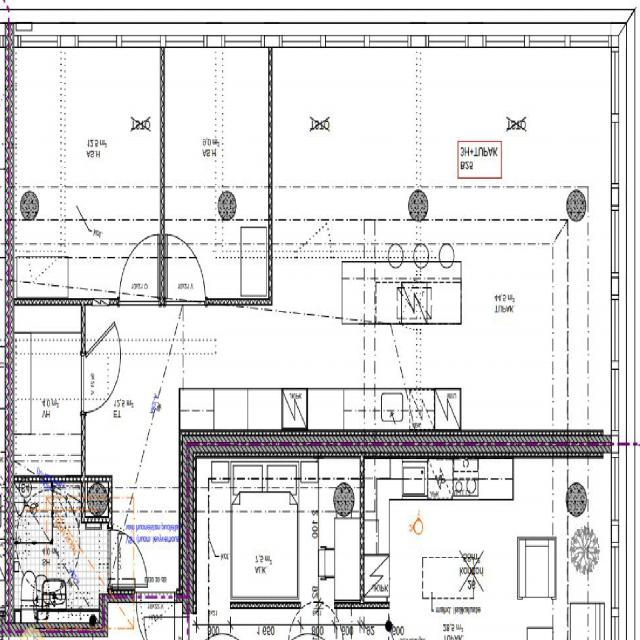door: (119, 234, 159, 305), (167, 234, 206, 305), (108, 530, 148, 586), (82, 356, 120, 412)
